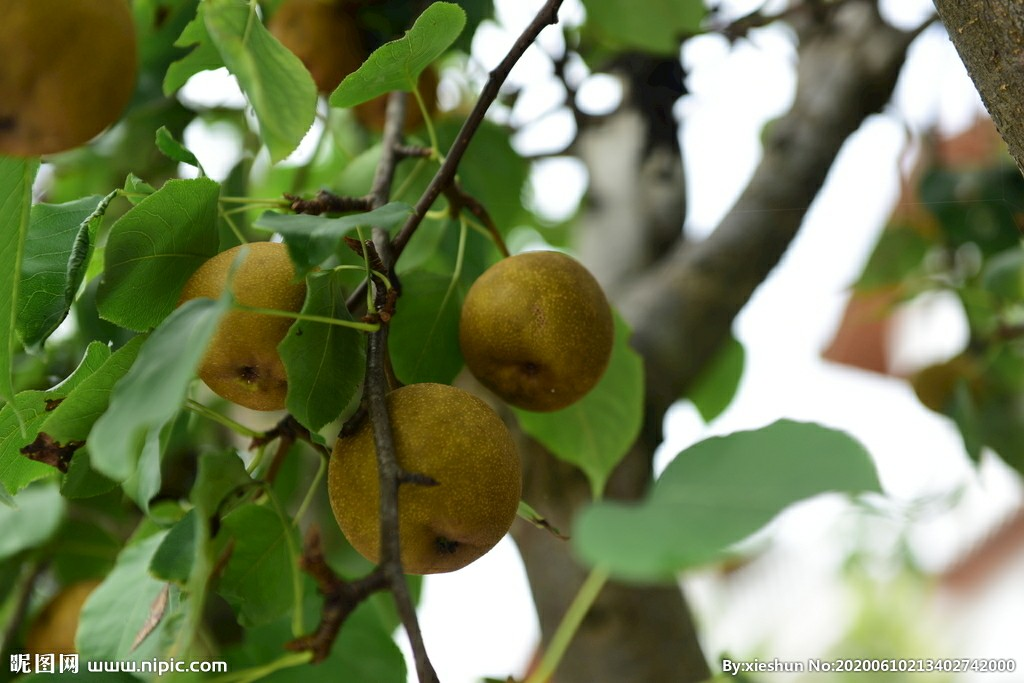pear: (324, 379, 519, 578), (177, 240, 345, 406), (459, 251, 613, 413), (1, 1, 137, 156)
